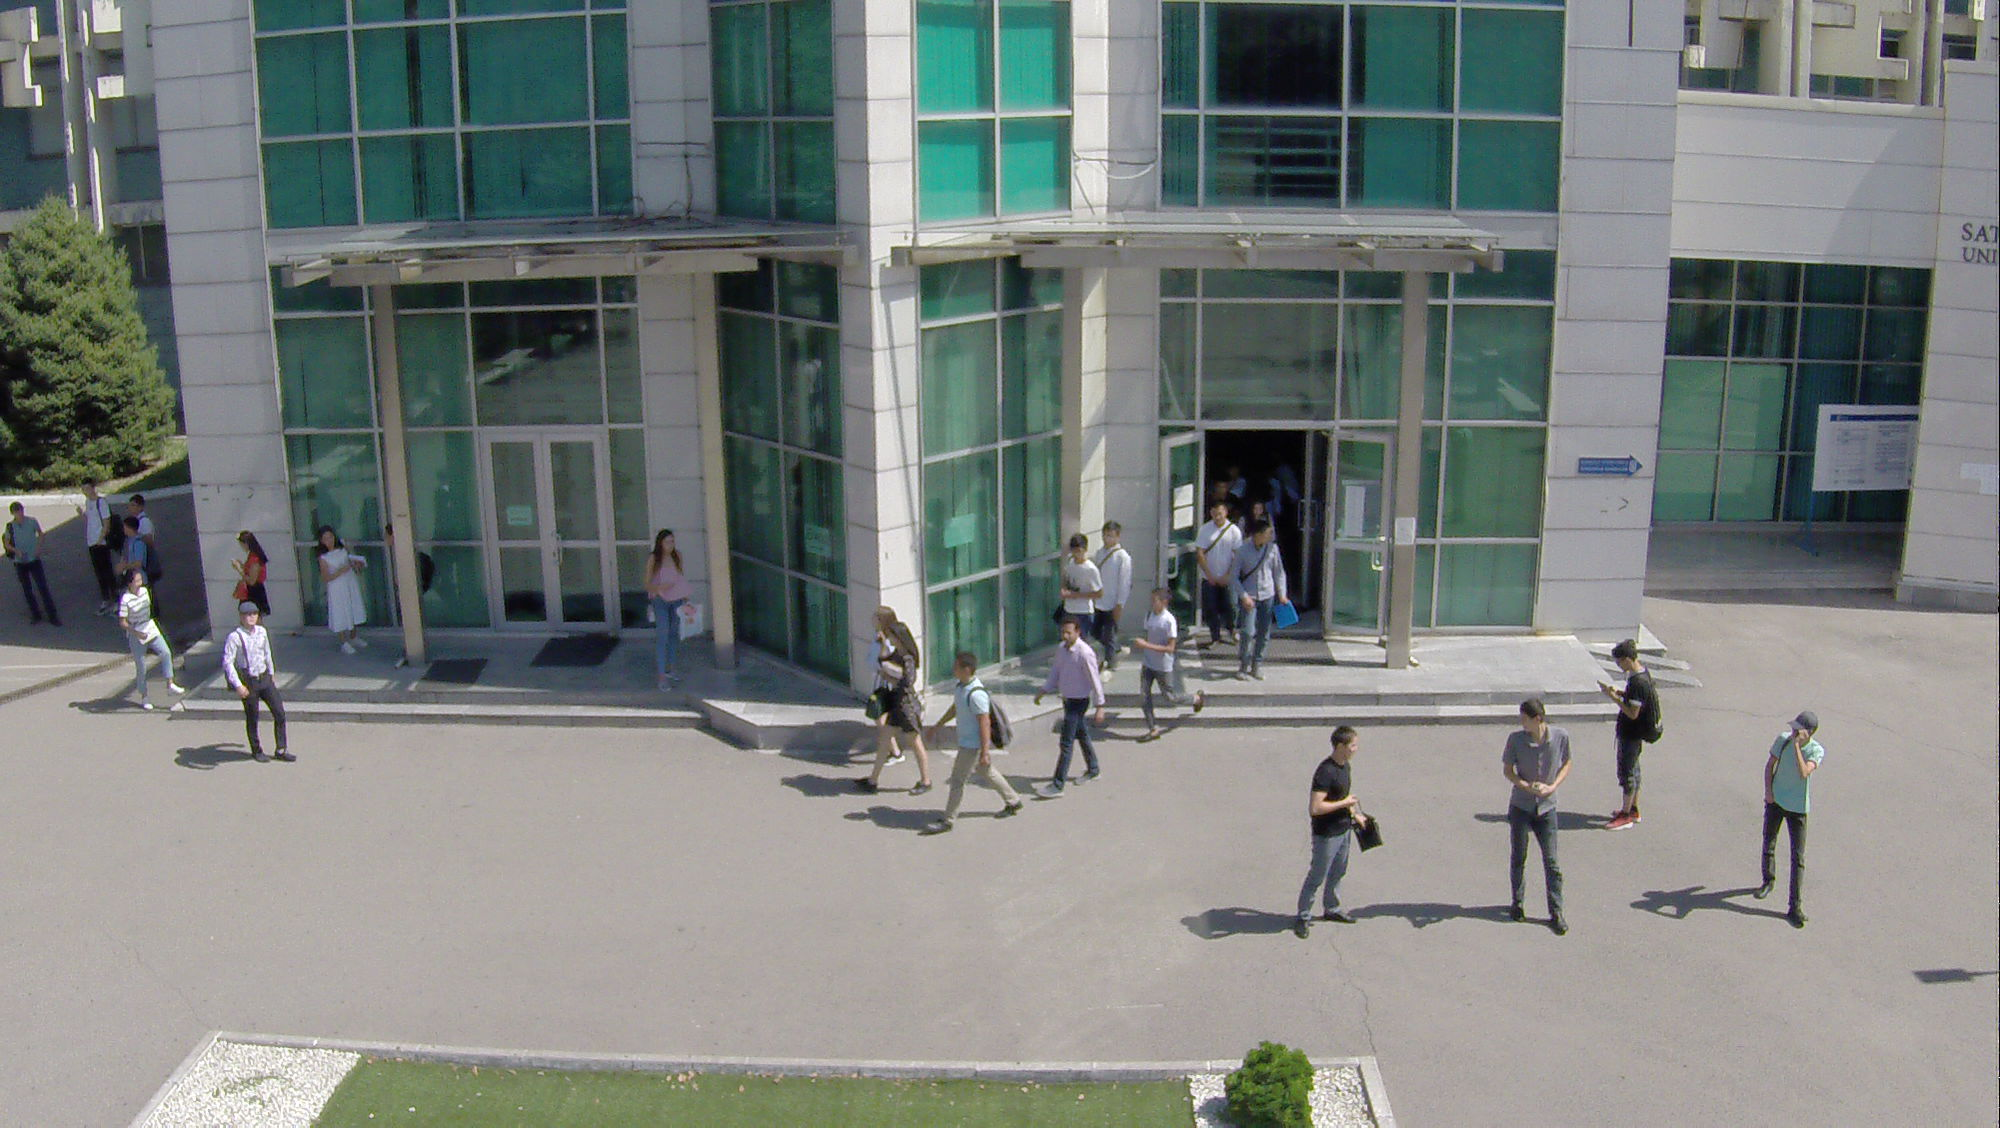person: (1281, 719, 1385, 946), (1498, 697, 1579, 938), (934, 642, 1024, 838), (1752, 709, 1826, 930), (1589, 633, 1661, 834), (1037, 613, 1111, 801), (861, 621, 937, 795), (220, 600, 298, 765), (1134, 587, 1207, 749), (642, 527, 703, 697), (1234, 519, 1294, 691), (115, 566, 179, 715), (1, 501, 60, 628), (313, 527, 372, 652), (1093, 519, 1136, 684), (71, 475, 117, 617), (1192, 497, 1242, 616), (1053, 529, 1101, 621), (229, 531, 272, 593), (117, 514, 147, 563)
